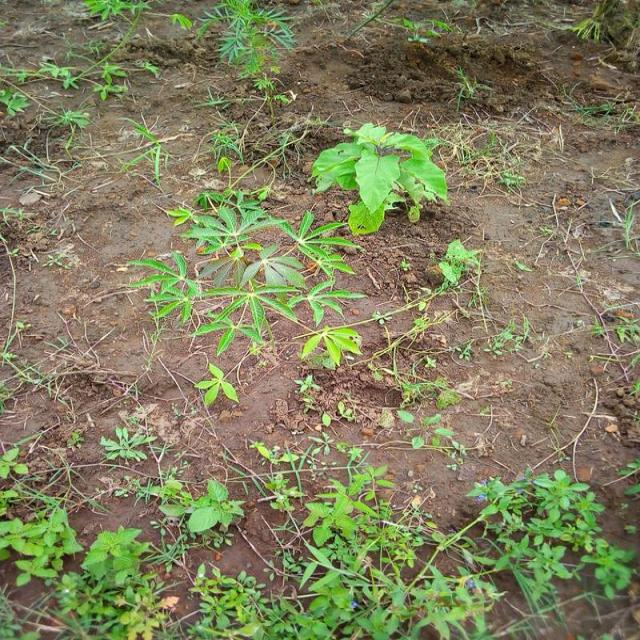cassava leaf: (312, 119, 451, 236)
